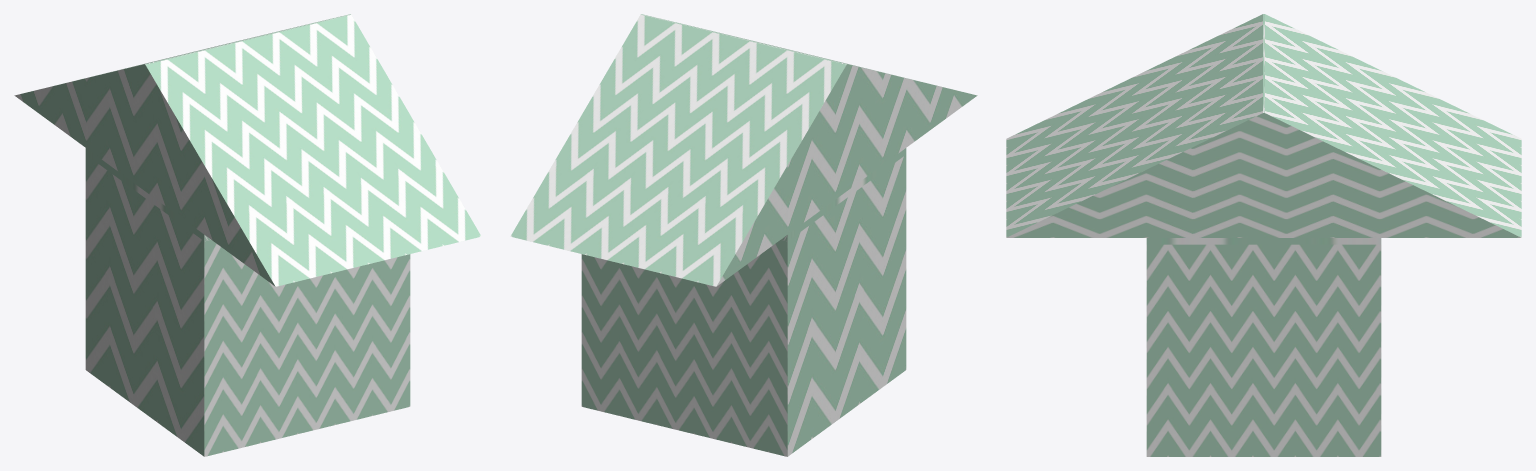
Rendered from arrow.obj.
The picture shows the model from 3 angles, left to right: view 1: azimuth 30°, elevation 25°; view 2: azimuth 150°, elevation 25°; view 3: azimuth 270°, elevation 25°; orthographic projection.
Parts seen in each view (by area): view 1: pCube1; view 2: pCube1; view 3: pCube1.
Boxes of the visible parts, box(x1,y1,x2,y2) form: pCube1: box(14, 14, 481, 456); pCube1: box(510, 14, 977, 456); pCube1: box(1006, 14, 1521, 456).
Bounding box in the file's own units: 1 × 1.62 × 2.2.
Materials: 1 (1 with a texture image).
